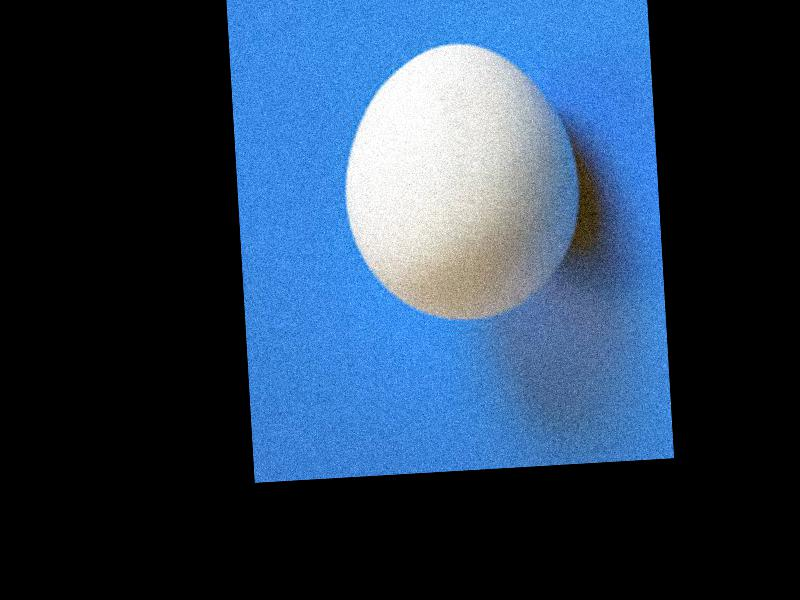Eggs: (337, 34, 587, 328)
